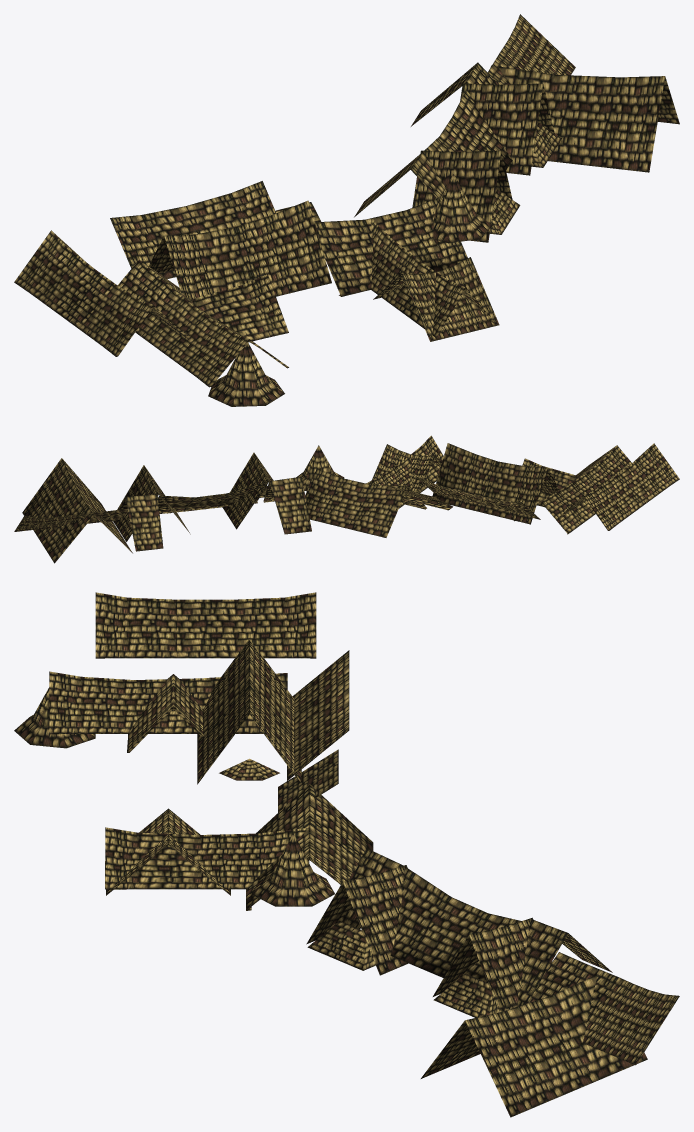
Rendered from LAKETOWN_EXTERIOR_PS_LT_PLANE2619.fbx.
3 renders of one model, top to bottom at view 1: azimuth 30°, elevation 25°; view 2: azimuth 150°, elevation 25°; view 3: azimuth 270°, elevation 25°, orthographic. The views are drawn at different scales.
Parts seen in each view (by area): view 1: LAKETOWN_EXTERIOR_PS_LT_PLANE2619; view 2: LAKETOWN_EXTERIOR_PS_LT_PLANE2619; view 3: LAKETOWN_EXTERIOR_PS_LT_PLANE2619.
Boxes of the visible parts, left/top/right/bottom form: LAKETOWN_EXTERIOR_PS_LT_PLANE2619: left=14, top=14, right=679, bottom=406; LAKETOWN_EXTERIOR_PS_LT_PLANE2619: left=14, top=435, right=679, bottom=563; LAKETOWN_EXTERIOR_PS_LT_PLANE2619: left=14, top=592, right=679, bottom=1117.
Size of the model in its own units: 537794 by 91934 by 379606.
Materials: 1 (1 with a texture image).
